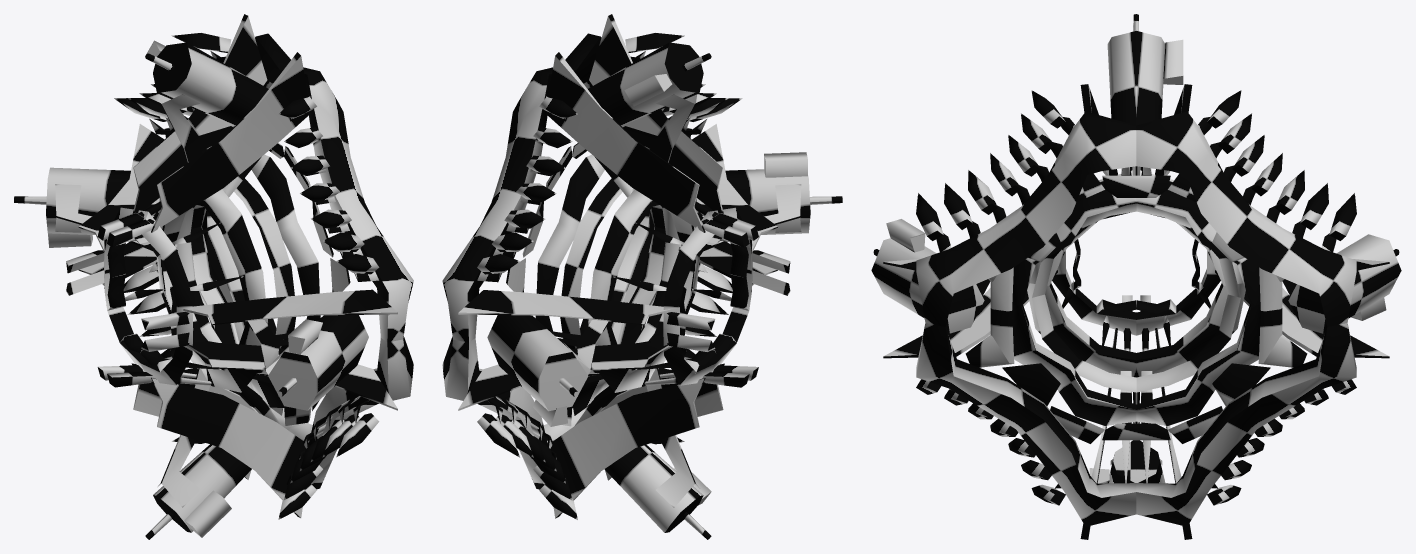
The model's file is galaxygate_kappa.obj.
3 renders of one model, left to right at view 1: azimuth 30°, elevation 25°; view 2: azimuth 150°, elevation 25°; view 3: azimuth 270°, elevation 25°, orthographic.
Parts seen in each view (by area): view 1: galaxygate_kappa; view 2: galaxygate_kappa; view 3: galaxygate_kappa.
Boxes of the visible parts, box(x1,y1,x2,y2) form: galaxygate_kappa: box(14, 14, 413, 539); galaxygate_kappa: box(442, 14, 842, 539); galaxygate_kappa: box(871, 14, 1401, 539).
Bounding box in the file's own units: 253 × 548 × 548.
Materials: 1 (1 with a texture image).
